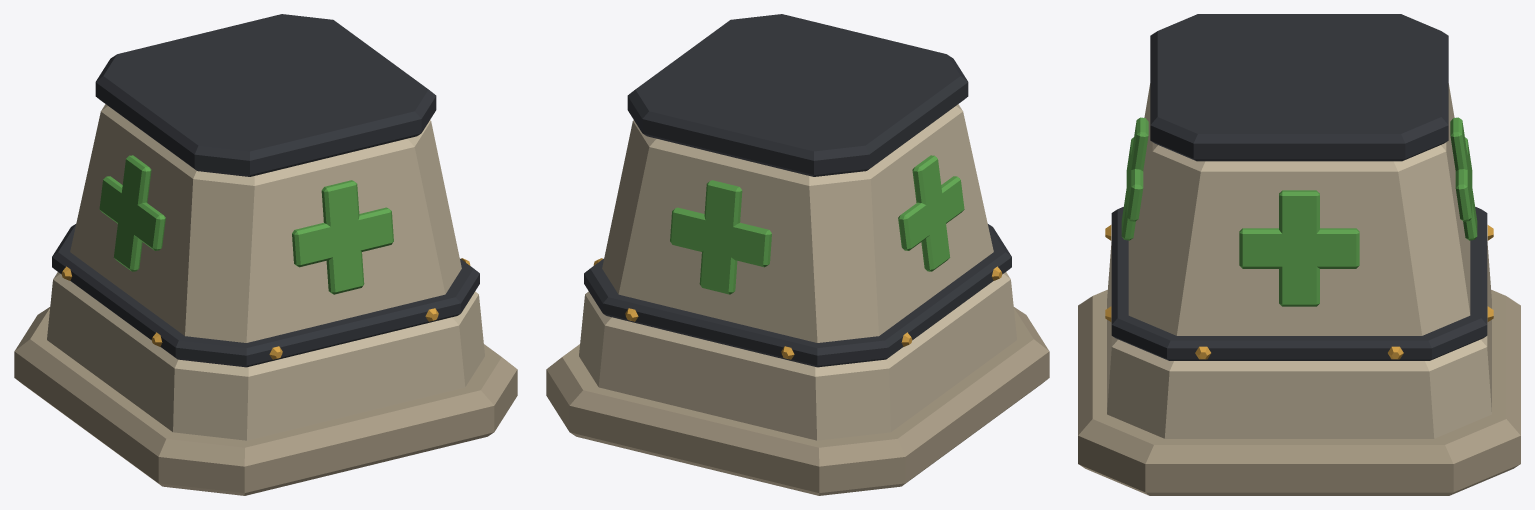
The model's file is MenderBase.obj.
The picture shows the model from 3 angles, left to right: view 1: azimuth 30°, elevation 25°; view 2: azimuth 150°, elevation 25°; view 3: azimuth 270°, elevation 25°; orthographic projection. The views are drawn at different scales.
Parts seen in each view (by area): view 1: MenderBase; view 2: MenderBase; view 3: MenderBase.
Part boxes in pixels (x1=…): MenderBase: x1=14, y1=14, x2=517, y2=495; MenderBase: x1=546, y1=14, x2=1049, y2=495; MenderBase: x1=1078, y1=14, x2=1520, y2=495.
Size of the model in its own units: 0.92 by 0.76 by 0.92.
